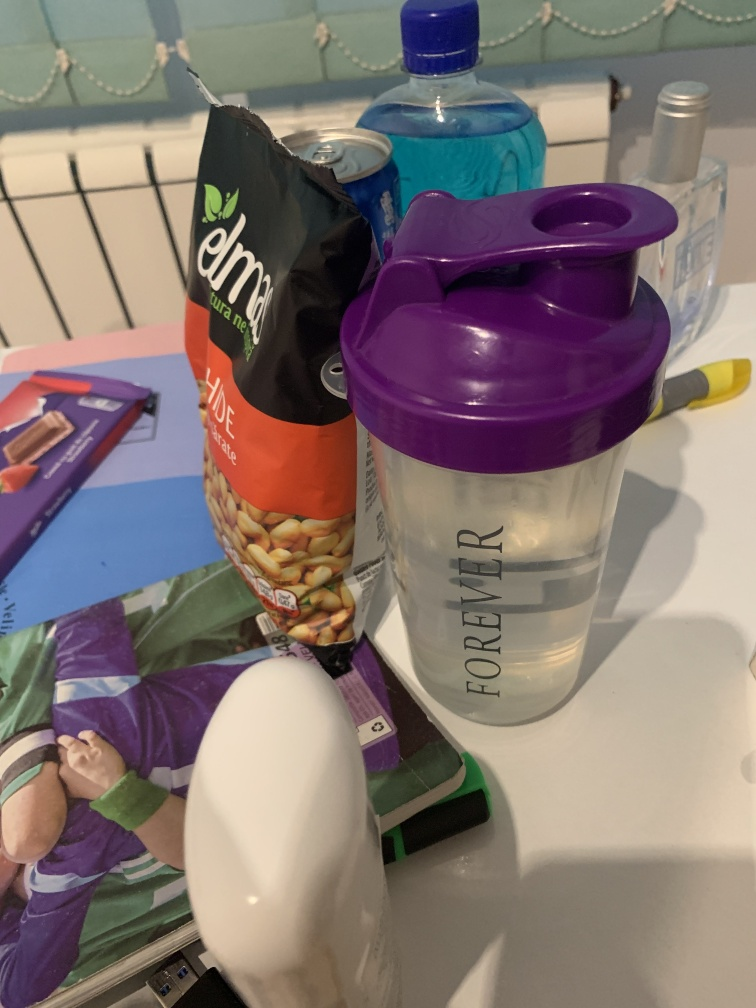milka: (1, 362, 159, 641)
peanuts: (174, 103, 416, 694)
